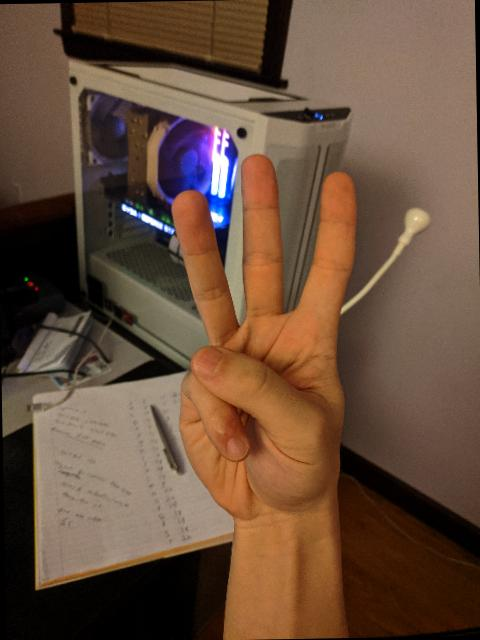W: (166, 148, 366, 527)
